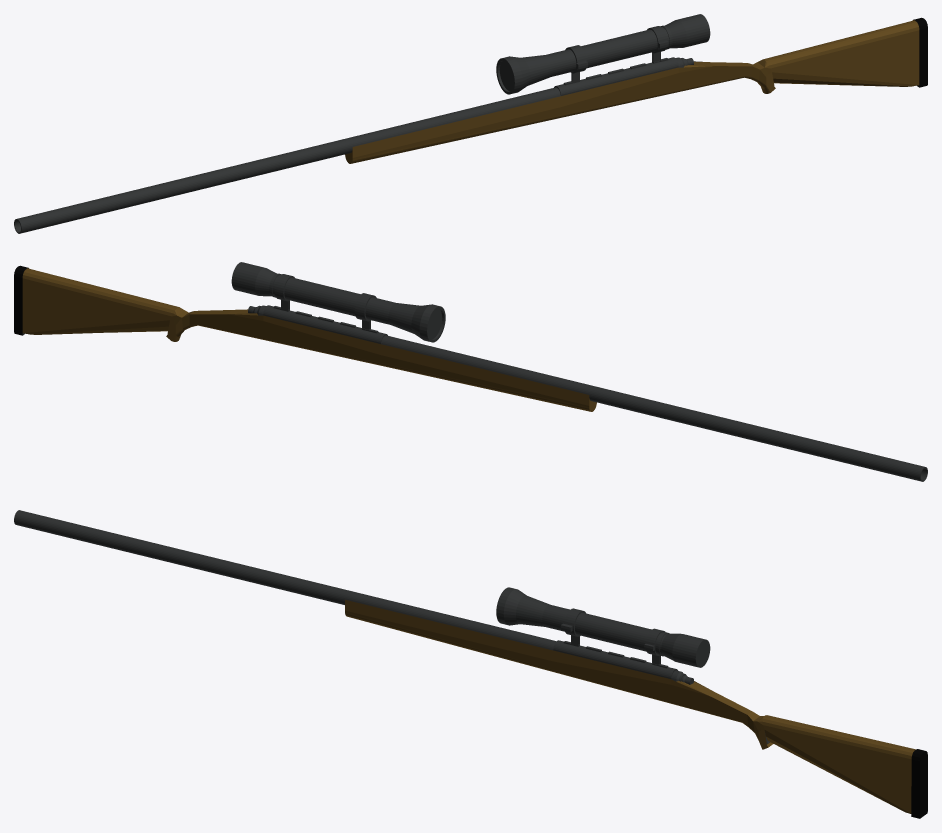
The model's file is Sniper.fbx.
3 renders of one model, top to bottom at view 1: azimuth 30°, elevation 25°; view 2: azimuth 150°, elevation 25°; view 3: azimuth 330°, elevation 25°, orthographic.
Parts seen in each view (by area): view 1: Cylinder0; view 2: Cylinder0; view 3: Cylinder0.
Boxes of the visible parts, left/top/right/bottom form: Cylinder0: left=14, top=14, right=927, bottom=233; Cylinder0: left=14, top=262, right=927, bottom=481; Cylinder0: left=14, top=510, right=927, bottom=818.
Size of the model in its own units: 274 by 36.16 by 9.74.
